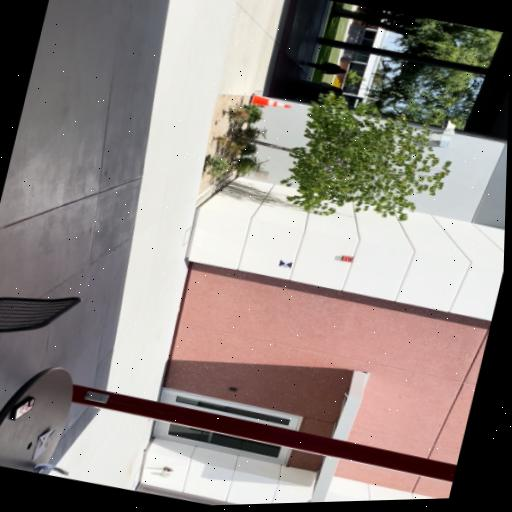target6: (278, 259, 293, 269)
